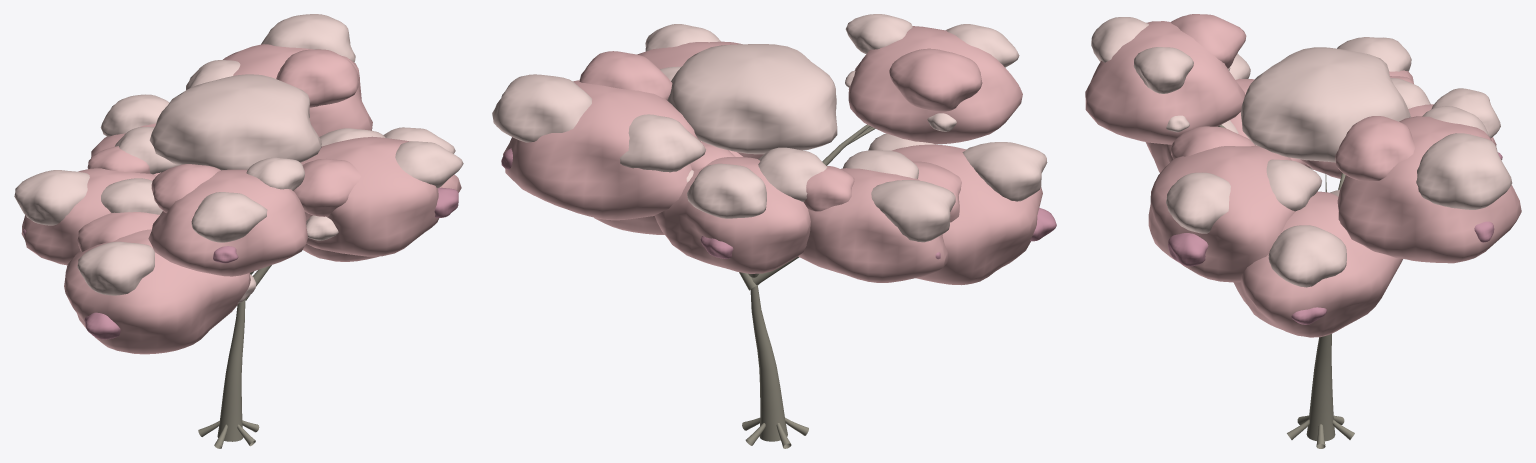
The model's file is diotree01.glb.
3 renders of one model, left to right at view 1: azimuth 30°, elevation 25°; view 2: azimuth 150°, elevation 25°; view 3: azimuth 270°, elevation 25°, orthographic. The views are drawn at different scales.
Visible parts, largest first — view 1: DioTree01_Bloom, DioTree01_BloomLight, DioTree01_Trunk, DioTree01_BloomShade; view 2: DioTree01_Bloom, DioTree01_BloomLight, DioTree01_Trunk, DioTree01_BloomShade; view 3: DioTree01_Bloom, DioTree01_BloomLight, DioTree01_Trunk, DioTree01_BloomShade.
Boxes of the visible parts, left/top/right/bottom form: DioTree01_Bloom: left=21, top=44, right=461, bottom=354; DioTree01_BloomLight: left=14, top=14, right=463, bottom=303; DioTree01_Trunk: left=198, top=265, right=271, bottom=448; DioTree01_BloomShade: left=23, top=187, right=458, bottom=339; DioTree01_Bloom: left=503, top=26, right=1042, bottom=285; DioTree01_BloomLight: left=492, top=14, right=1047, bottom=242; DioTree01_Trunk: left=739, top=124, right=875, bottom=448; DioTree01_BloomShade: left=501, top=148, right=1056, bottom=259; DioTree01_Bloom: left=1085, top=14, right=1521, bottom=337; DioTree01_BloomLight: left=1091, top=17, right=1512, bottom=287; DioTree01_Trunk: left=1218, top=124, right=1354, bottom=448; DioTree01_BloomShade: left=1168, top=152, right=1502, bottom=324.
Size of the model in its own units: 10.27 by 8.18 by 8.53.
